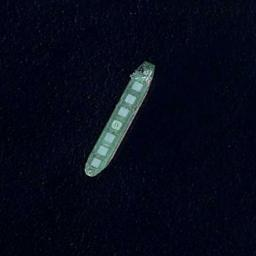boat: (84, 61, 155, 176)
